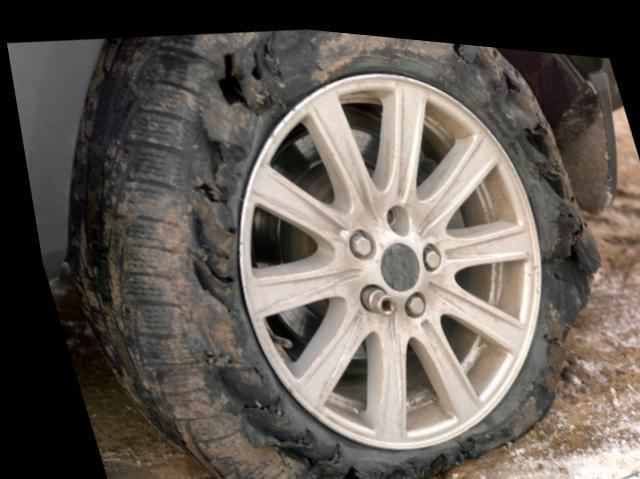tire flat: (61, 23, 594, 479)
